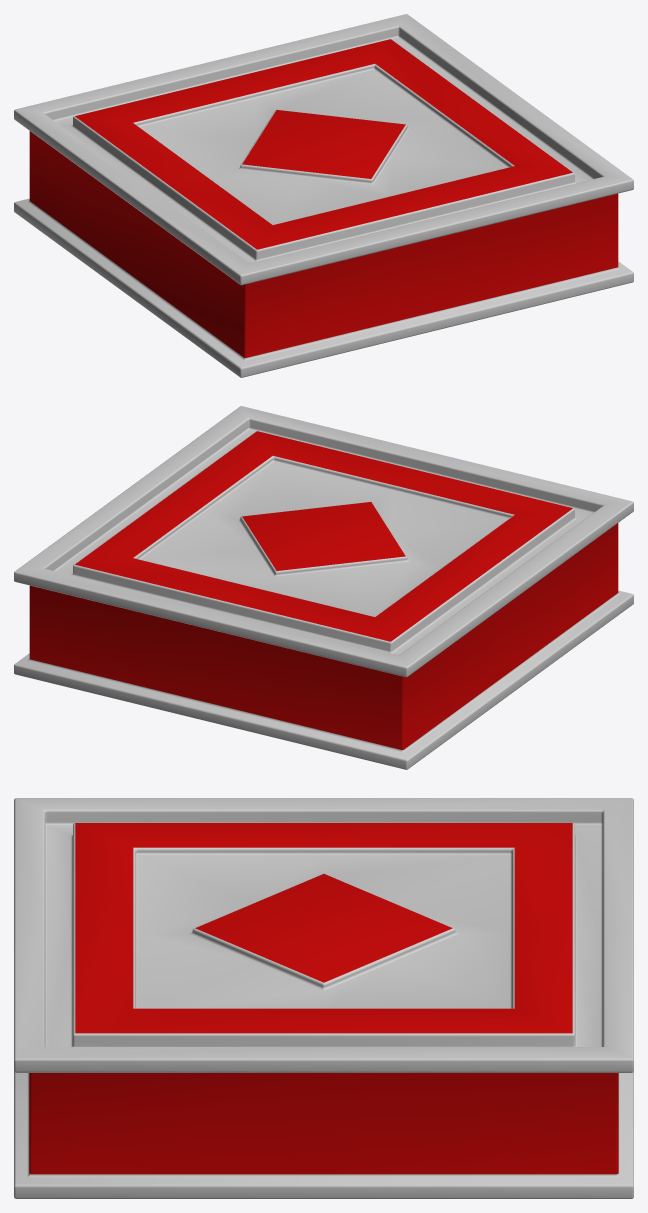
File: platform_red.fbx
The picture shows the model from 3 angles, top to bottom: view 1: azimuth 30°, elevation 25°; view 2: azimuth 150°, elevation 25°; view 3: azimuth 270°, elevation 25°; orthographic projection. The views are drawn at different scales.
Visible parts, largest first — view 1: Würfel_1; view 2: Würfel_1; view 3: Würfel_1.
Boxes of the visible parts, left/top/right/bottom form: Würfel_1: left=14, top=14, right=633, bottom=377; Würfel_1: left=14, top=406, right=633, bottom=769; Würfel_1: left=14, top=798, right=633, bottom=1198.
Bounding box in the file's own units: 400 × 100 × 400.
